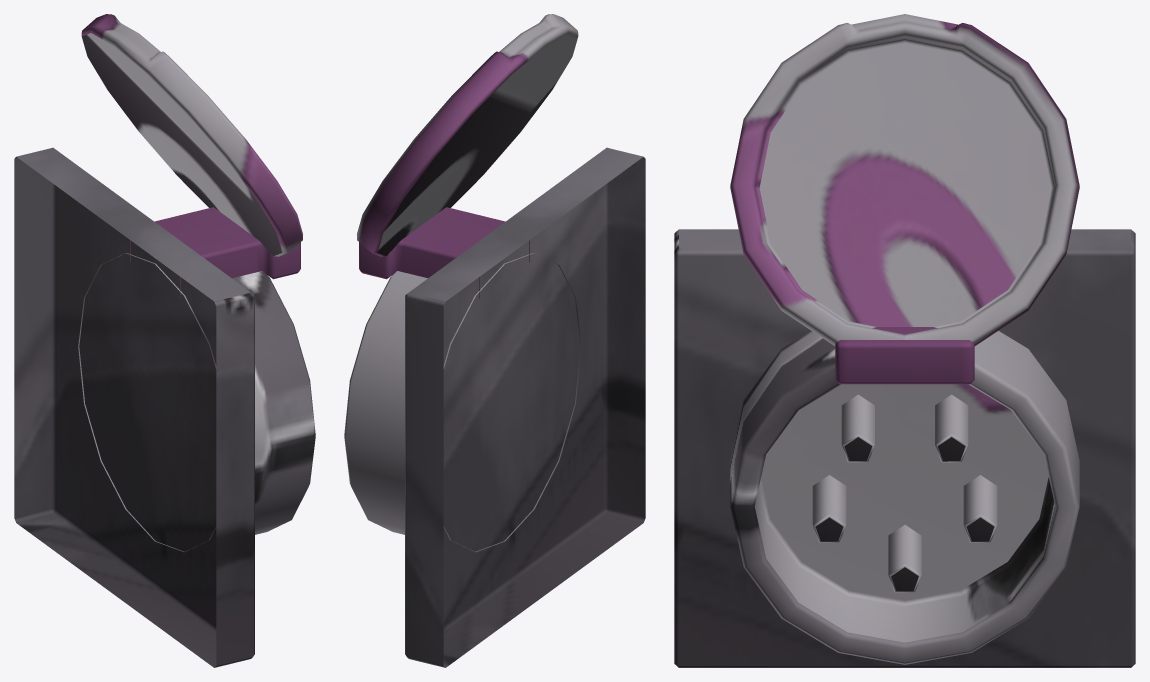
Rendered from SM_EDSWallSocket1.fbx.
The picture shows the model from 3 angles, left to right: view 1: azimuth 30°, elevation 25°; view 2: azimuth 150°, elevation 25°; view 3: azimuth 270°, elevation 25°; orthographic projection. The views are drawn at different scales.
Parts seen in each view (by area): view 1: Wall Socket 1; view 2: Wall Socket 1; view 3: Wall Socket 1, Wall Socket pins.
Part boxes in pixels (bbox=[...]): Wall Socket 1: bbox=[14, 14, 315, 667]; Wall Socket 1: bbox=[344, 14, 645, 667]; Wall Socket 1: bbox=[674, 14, 1135, 667]; Wall Socket pins: bbox=[812, 394, 997, 592].
Bounding box in the file's own units: 4.41 × 9.78 × 14.87.
